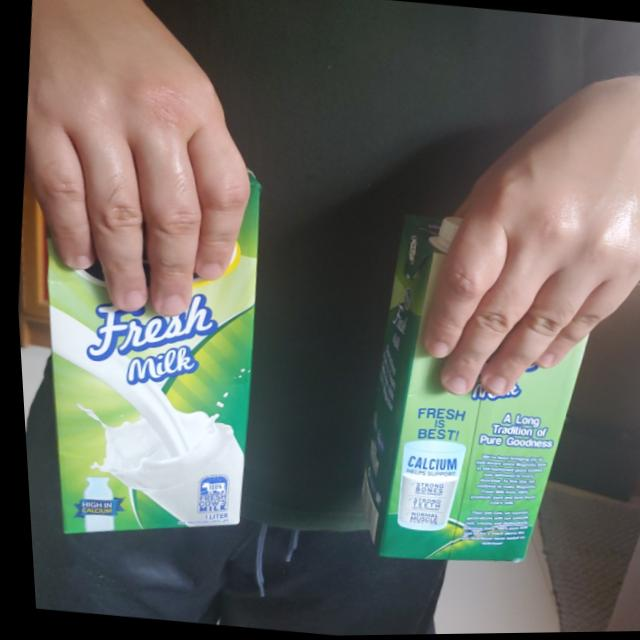milk: (7, 145, 275, 554), (333, 214, 604, 583)
